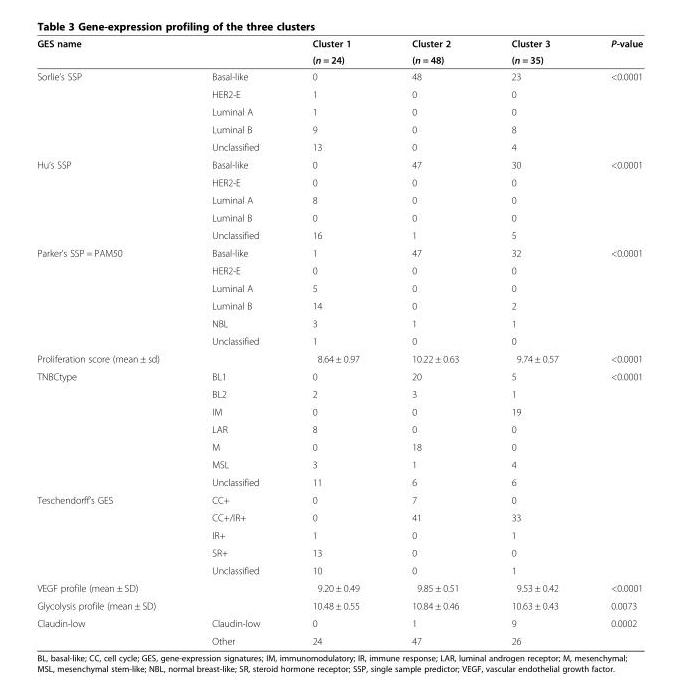table: (36, 37, 642, 646)
table column: (36, 37, 185, 646), (185, 37, 285, 646), (285, 37, 385, 646), (484, 37, 584, 646), (385, 37, 484, 646), (584, 37, 642, 646)
table column header: (36, 37, 642, 67)
table row: (36, 67, 642, 85), (36, 102, 642, 120), (36, 137, 642, 155), (36, 155, 642, 173), (36, 190, 642, 208), (36, 208, 642, 226), (36, 243, 642, 261), (36, 261, 642, 279), (36, 296, 642, 314), (36, 331, 642, 349), (36, 349, 642, 367), (36, 384, 642, 402), (36, 402, 642, 420), (36, 437, 642, 455), (36, 455, 642, 473), (36, 490, 642, 508), (36, 508, 642, 526), (36, 543, 642, 561), (36, 578, 642, 596), (36, 596, 642, 614), (36, 85, 642, 102), (36, 120, 642, 137), (36, 173, 642, 190), (36, 226, 642, 243), (36, 279, 642, 296), (36, 314, 642, 331), (36, 367, 642, 384), (36, 420, 642, 437), (36, 473, 642, 490), (36, 526, 642, 543), (36, 561, 642, 578), (36, 614, 642, 631), (36, 51, 642, 67), (36, 631, 642, 646), (36, 37, 642, 51)
table spanning cell: (36, 367, 185, 490), (36, 243, 185, 349), (36, 67, 185, 155), (36, 155, 185, 243), (36, 490, 185, 578), (584, 367, 642, 490), (584, 243, 642, 349), (584, 67, 642, 155), (584, 155, 642, 243), (36, 614, 185, 646), (36, 37, 185, 67), (285, 37, 385, 67), (484, 37, 584, 67), (385, 37, 484, 67), (584, 614, 642, 646), (584, 37, 642, 67)
